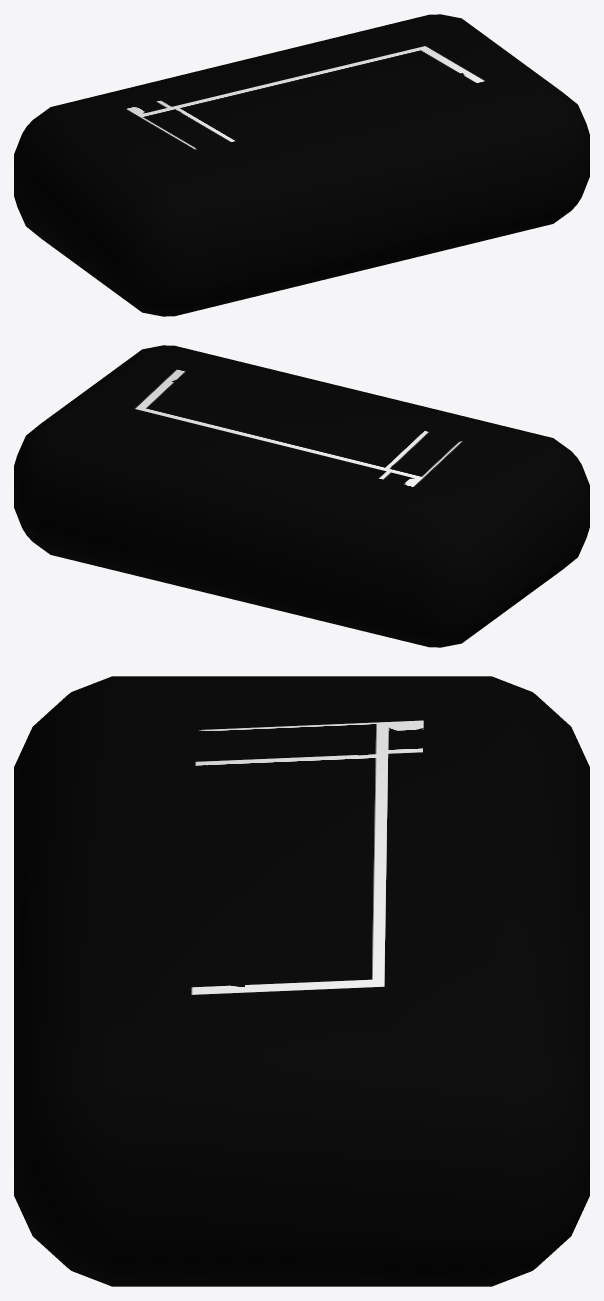
Rendered from soap_1_smooth.obj.
3 views of the same model, one above another, from view 1: azimuth 30°, elevation 25°; view 2: azimuth 150°, elevation 25°; view 3: azimuth 270°, elevation 25° (orthographic). The views are drawn at different scales.
Parts seen in each view (by area): view 1: soap_bar_high_Cube.002; view 2: soap_bar_high_Cube.002; view 3: soap_bar_high_Cube.002.
Part boxes in pixels (<box>): soap_bar_high_Cube.002: <box>14,14,589,316</box>; soap_bar_high_Cube.002: <box>14,345,589,647</box>; soap_bar_high_Cube.002: <box>14,676,589,1286</box>.
Bounding box in the file's own units: 0.5447 × 0.1511 × 0.3068.
Materials: 1 (1 with a texture image).
